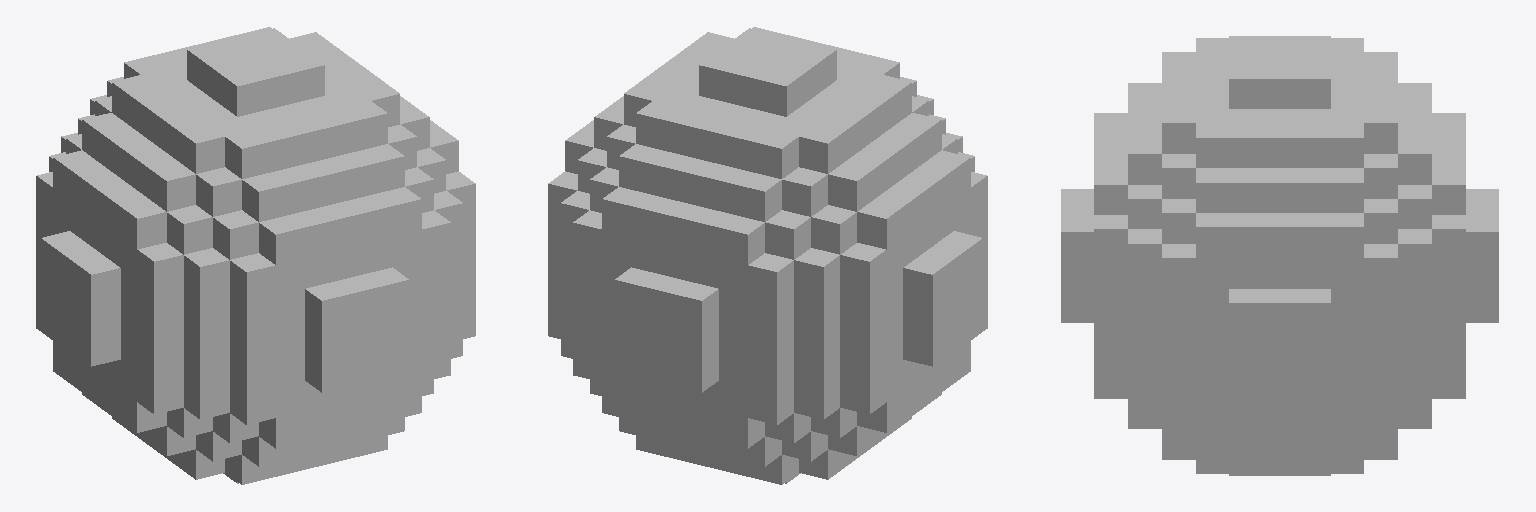
Rendered from CheckerBall.obj.
3 renders of one model, left to right at view 1: azimuth 30°, elevation 25°; view 2: azimuth 150°, elevation 25°; view 3: azimuth 270°, elevation 25°, orthographic.
Parts seen in each view (by area): view 1: Icosphere; view 2: Icosphere; view 3: Icosphere.
Part boxes in pixels (x1,y1,x2,y2): Icosphere: (36,27,475,484); Icosphere: (548,27,987,484); Icosphere: (1061,36,1498,475).
Size of the model in its own units: 2.06 by 2.06 by 2.06.